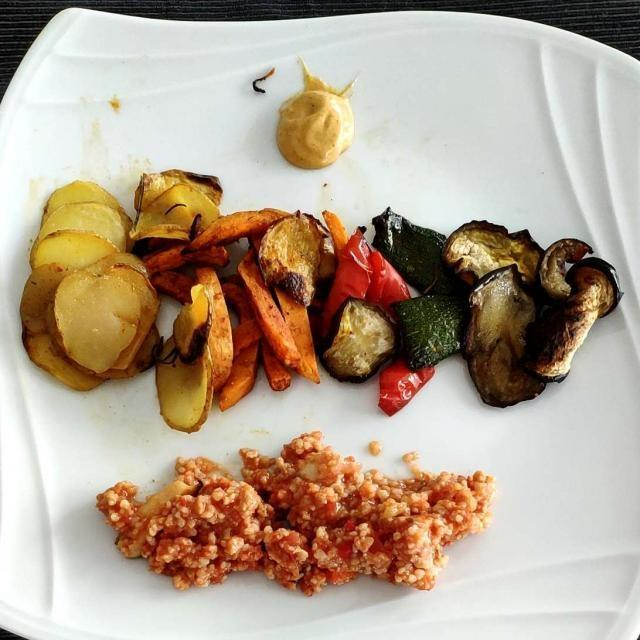baked-potato: (15, 171, 227, 430)
couscous: (102, 441, 496, 591)
mixed-vegetables: (313, 205, 640, 405)
sweet-potato: (142, 203, 339, 402)
